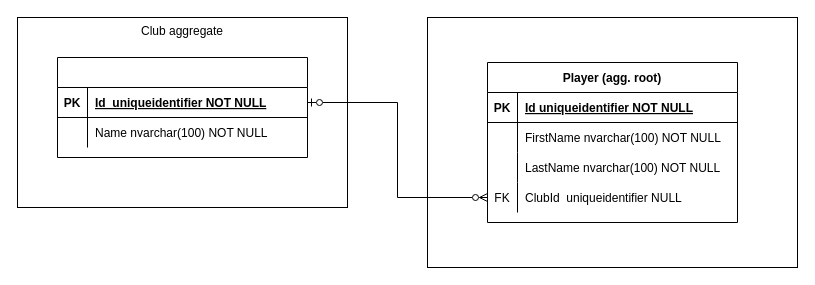
This 815x285 diagram has some shape labels left out. The shapes that lost their labels are listed below. From the top down, each one's box as (x1, y1, x2, y2) in pixels, then its label:
(56, 56, 308, 158): Club (agg. root)
(426, 16, 798, 268): Player aggregate
